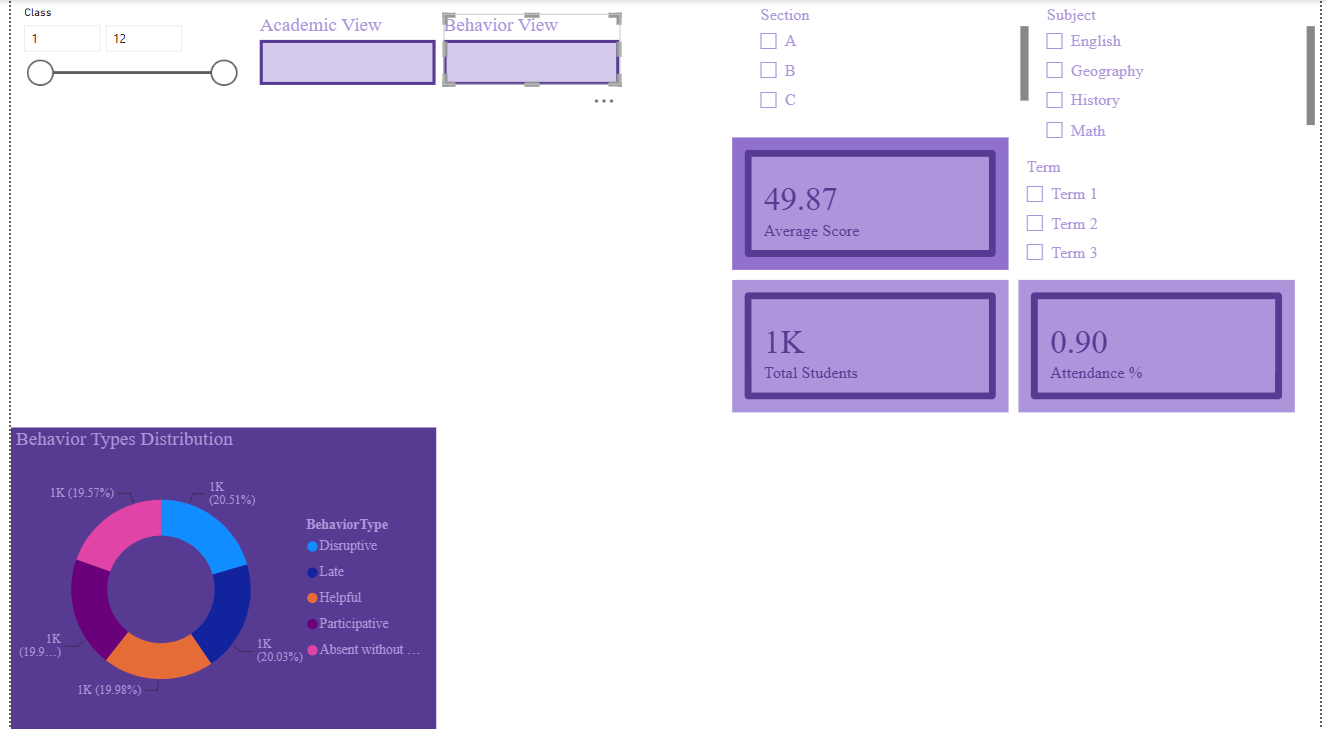

Layout of this report page (visuals, bound fields, positions):
{"tool":"powerbi","page":{"name":"Page 1","canvas":[1280,720],"ordinal":0},"visuals":[{"type":"cardVisual","fields":{"Data":["New Measure.Total Students"]},"box":[700.7,269,280,139.4],"z":0},{"type":"cardVisual","fields":{"Data":["New Measure.Attendance %"]},"box":[980.7,269,280,139.4],"z":1000},{"type":"cardVisual","fields":{"Data":["New Measure.Average Score"]},"box":[700.7,129.6,280,139.4],"z":2000},{"type":"donutChart","title":"Behavior Types Distribution","fields":{"Category":["Behavior.BehaviorType"],"Y":["New Measure.Behavior Count"]},"box":[0,418.5,415.8,296.4],"z":5000},{"type":"slicer","fields":{"Values":["Students.Class"]},"box":[0,0,229.2,96.1],"z":7000},{"type":"slicer","fields":{"Values":["Students.Section"]},"box":[720.4,0,279.9,115.3],"z":8000},{"type":"slicer","fields":{"Values":["Scores.Subject"]},"box":[1000.3,0,279.9,149.6],"z":9000},{"type":"slicer","fields":{"Values":["Scores.Term"]},"box":[980.7,149.2,299.6,119.8],"z":10000},{"type":"actionButton","title":"Behavior View","box":[423.2,13.4,172,69.9],"z":11000},{"type":"actionButton","title":"Academic View","box":[243.2,13.4,172,69.9],"z":12000}]}

Visuals, with their boxes in screenshot pixels (x1, y1, x2, y2), scaled from the page's 1280x720 canvas onto the 1326x729 screenshot:
cardVisual - New Measure.Total Students: <bbox>726, 272, 1016, 414</bbox>
cardVisual - New Measure.Attendance %: <bbox>1016, 272, 1306, 414</bbox>
cardVisual - New Measure.Average Score: <bbox>726, 131, 1016, 272</bbox>
"Behavior Types Distribution" donutChart: <bbox>0, 424, 431, 724</bbox>
slicer - Students.Class: <bbox>0, 0, 237, 97</bbox>
slicer - Students.Section: <bbox>746, 0, 1036, 117</bbox>
slicer - Scores.Subject: <bbox>1036, 0, 1325, 151</bbox>
slicer - Scores.Term: <bbox>1016, 151, 1325, 272</bbox>
"Behavior View" actionButton: <bbox>438, 14, 617, 84</bbox>
"Academic View" actionButton: <bbox>252, 14, 430, 84</bbox>
